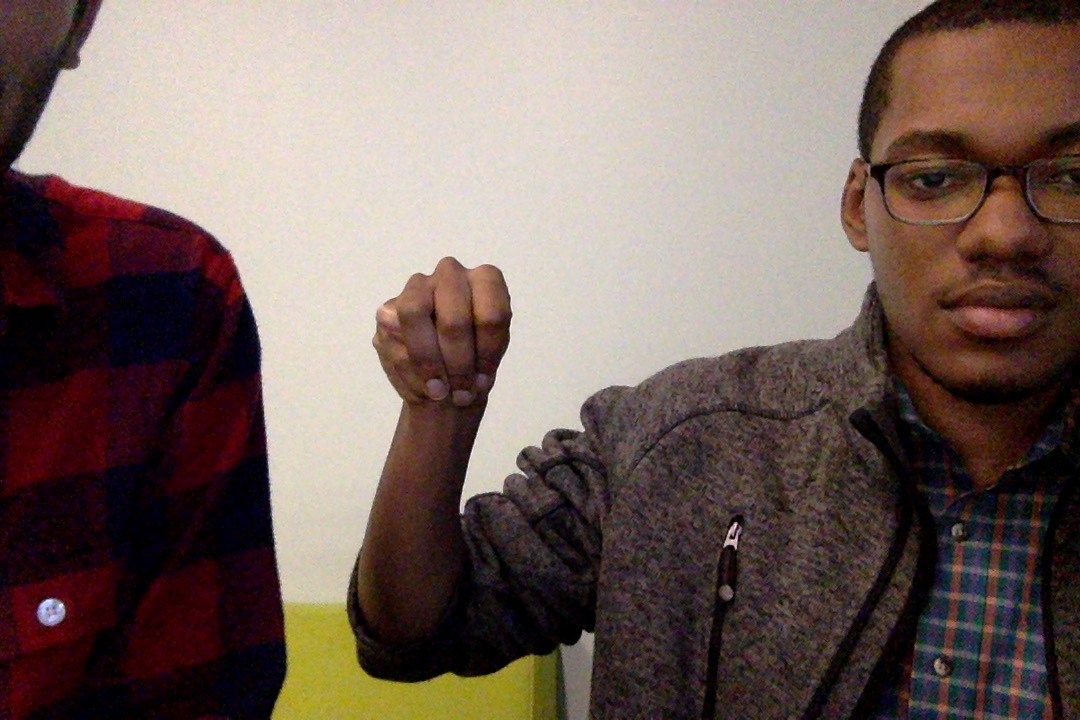m: (356, 250, 538, 434)
